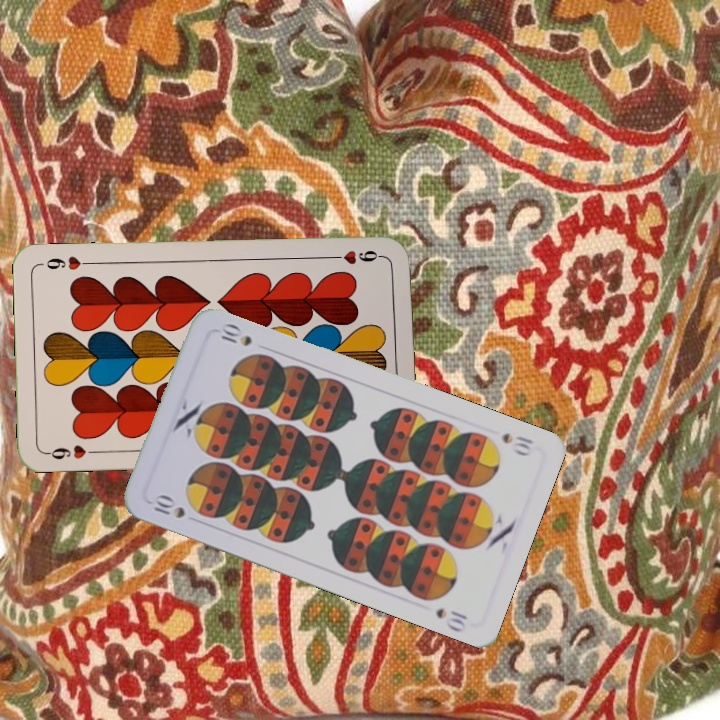H9: (42, 441, 101, 462), (327, 246, 386, 267)
S10: (147, 490, 188, 521), (497, 429, 536, 459)
